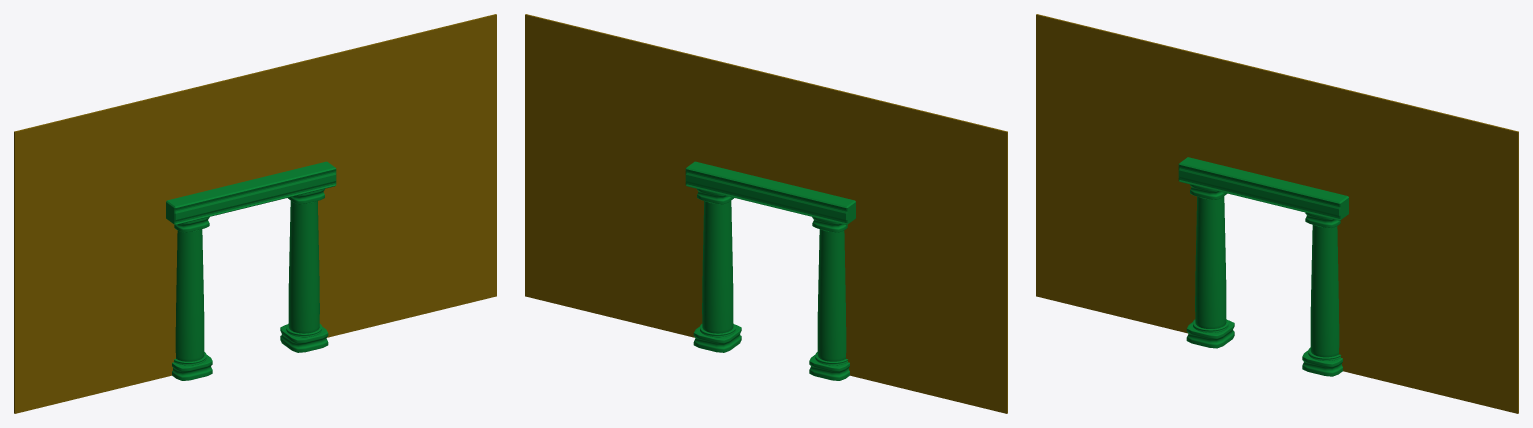
Rendered from Double Door Base.fbx.
The picture shows the model from 3 angles, left to right: view 1: azimuth 30°, elevation 25°; view 2: azimuth 150°, elevation 25°; view 3: azimuth 330°, elevation 25°; orthographic projection.
Visible parts, largest first — view 1: pCylinder10 (×2); view 2: pCylinder10 (×2); view 3: pCylinder10 (×2).
Boxes of the visible parts, x1,y1,x2,y2 form: pCylinder10 (×2): (14, 14, 496, 413); pCylinder10 (×2): (525, 14, 1007, 413); pCylinder10 (×2): (1036, 14, 1518, 413).
Size of the model in its own units: 4492 by 2508 by 324.
